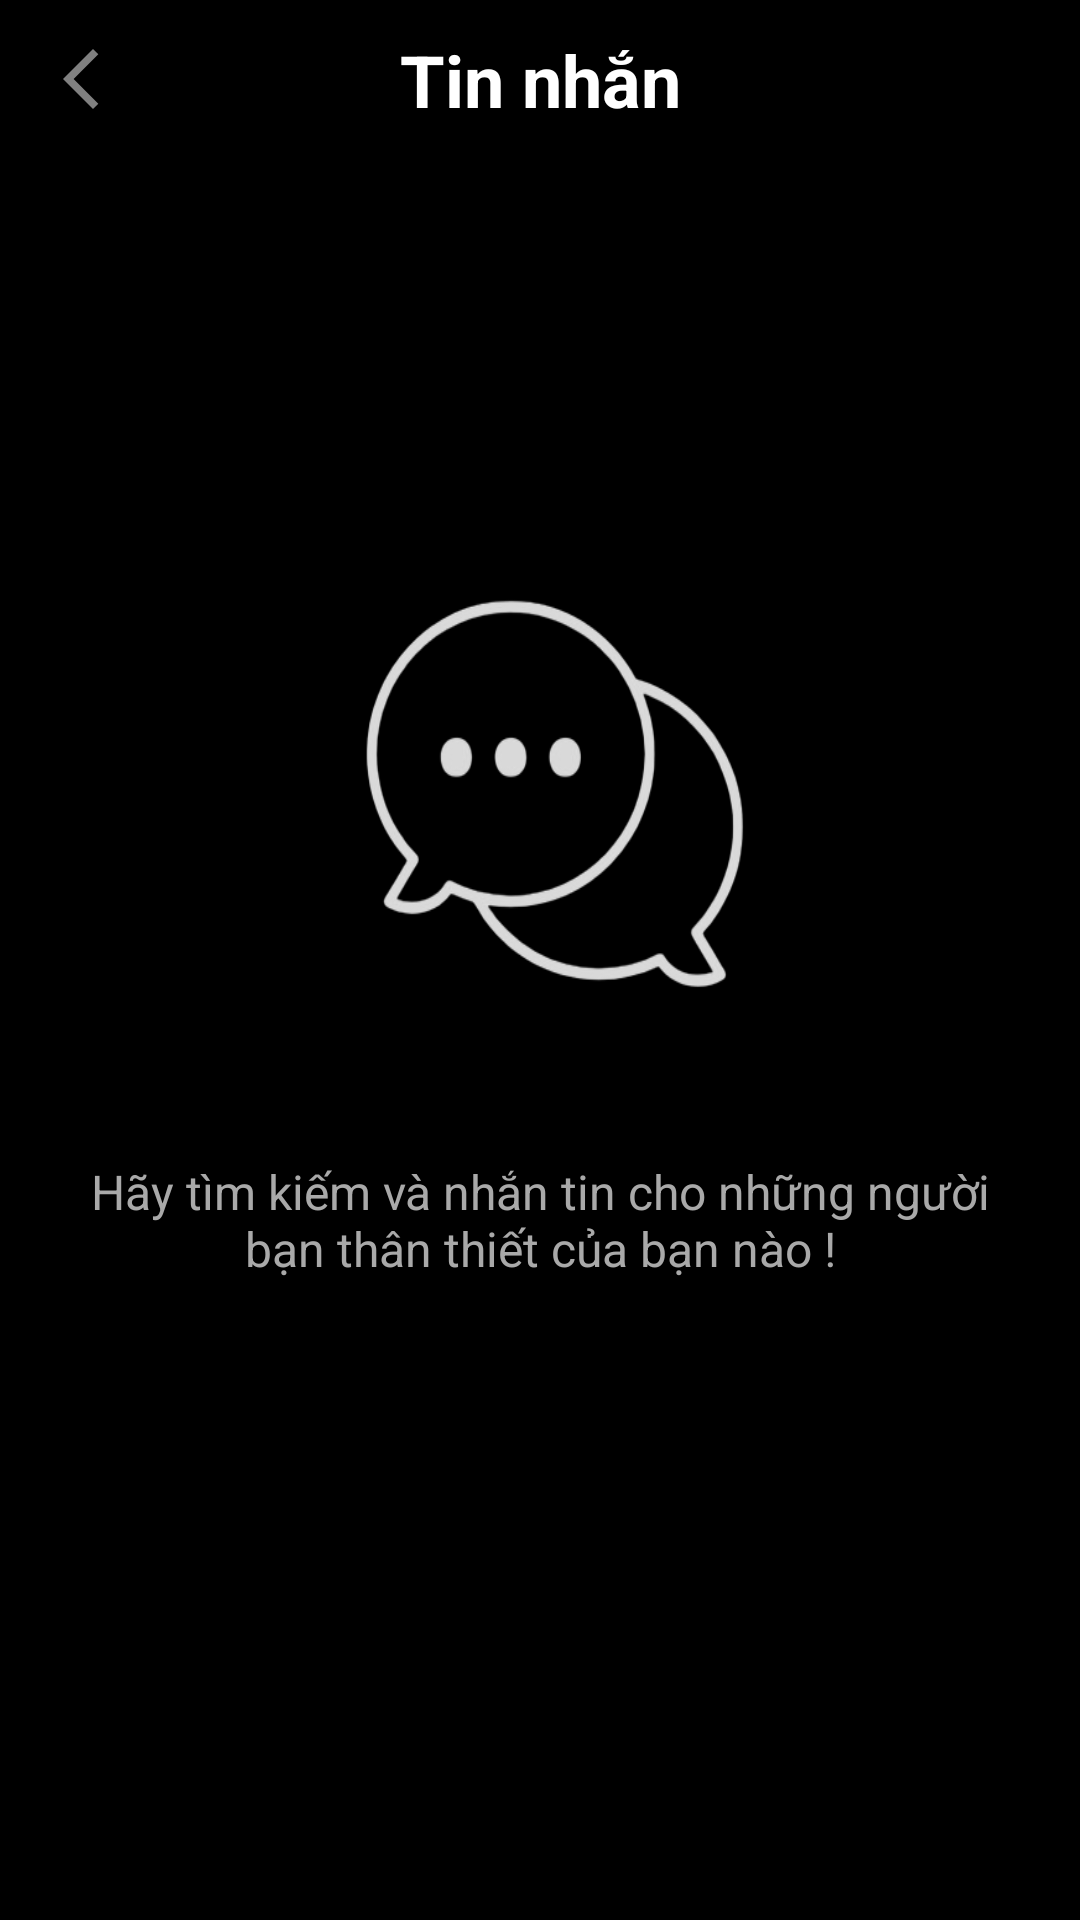

Locate icon controls on the screen. Image size 1080px×1920px, boxes as (x1, y1, x2, y2).
back: (63, 49, 98, 109)
